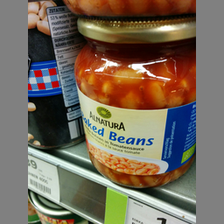beans: (71, 18, 195, 192)
